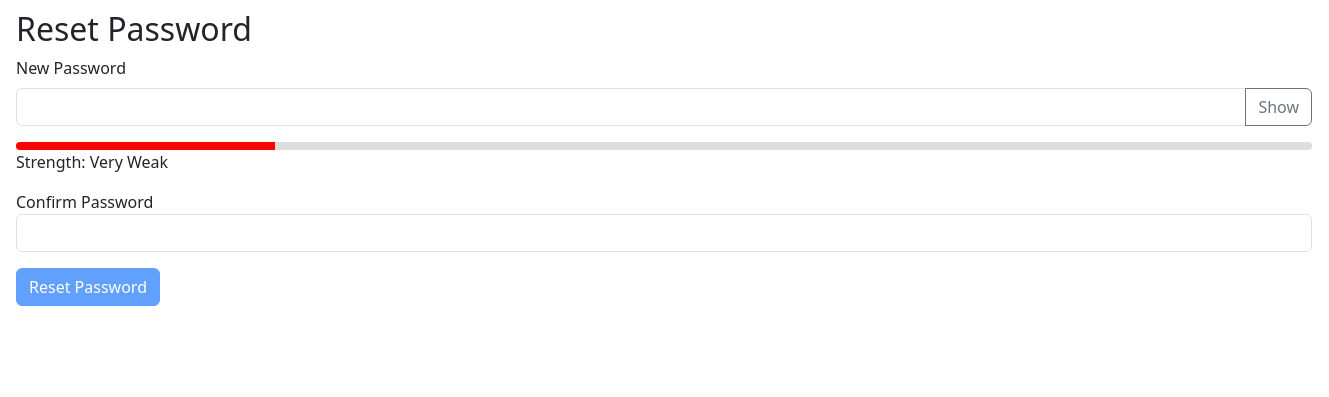
shows warning if password is too weak
Type "123" into the password field labelled "New Password" at [631, 107], box [16,88,1246,126]
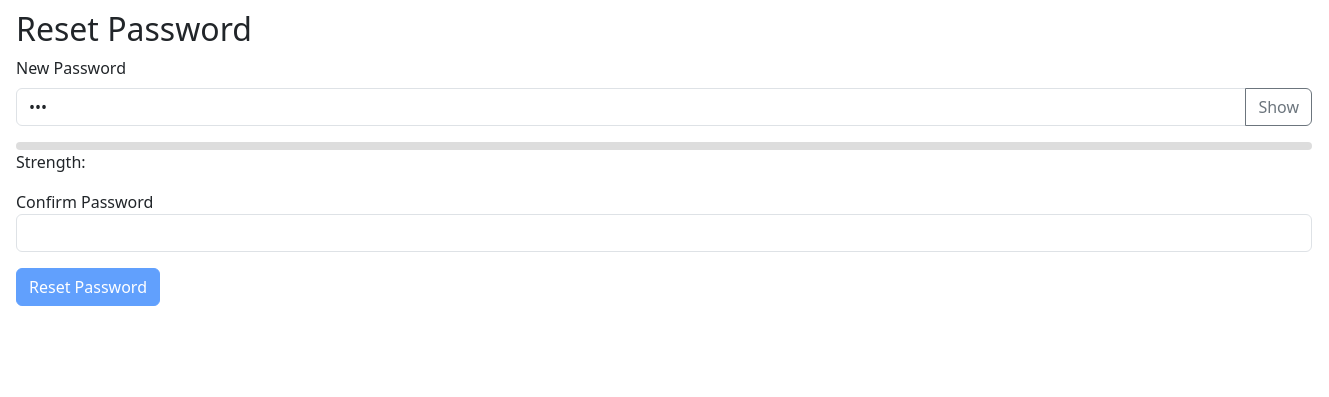
Type "123" into the password field labelled "Confirm Password" at [664, 233], box [16,214,1312,252]
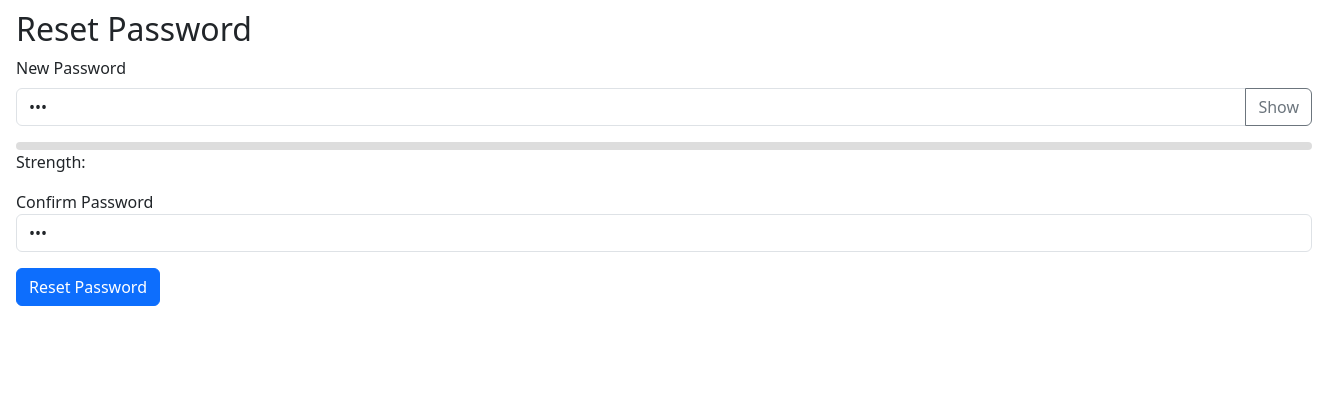
Click the button "Reset Password" at [88, 287], box [16,268,160,306]
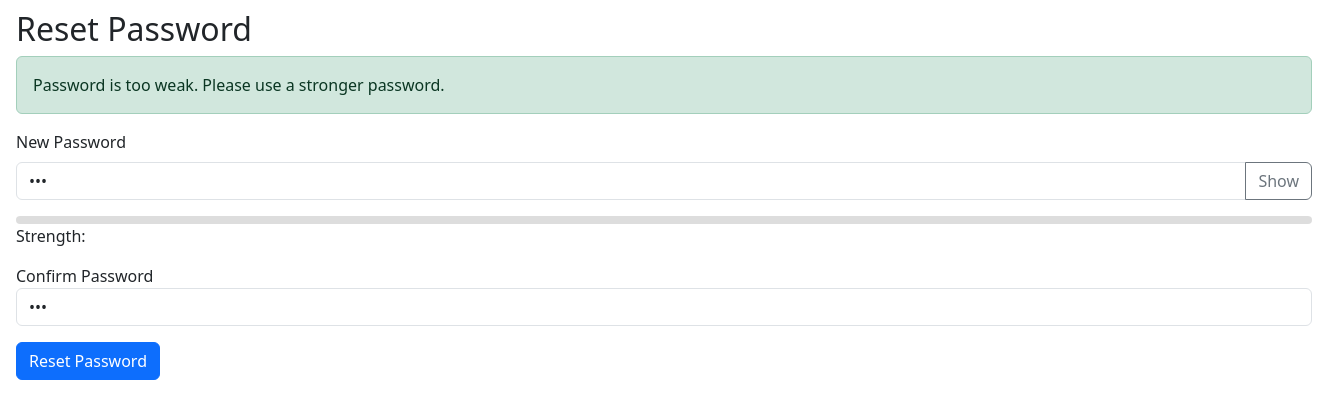
Expected: the text "Password is too weak. Please use a stronger password." is shown, [16,56,1312,114]
